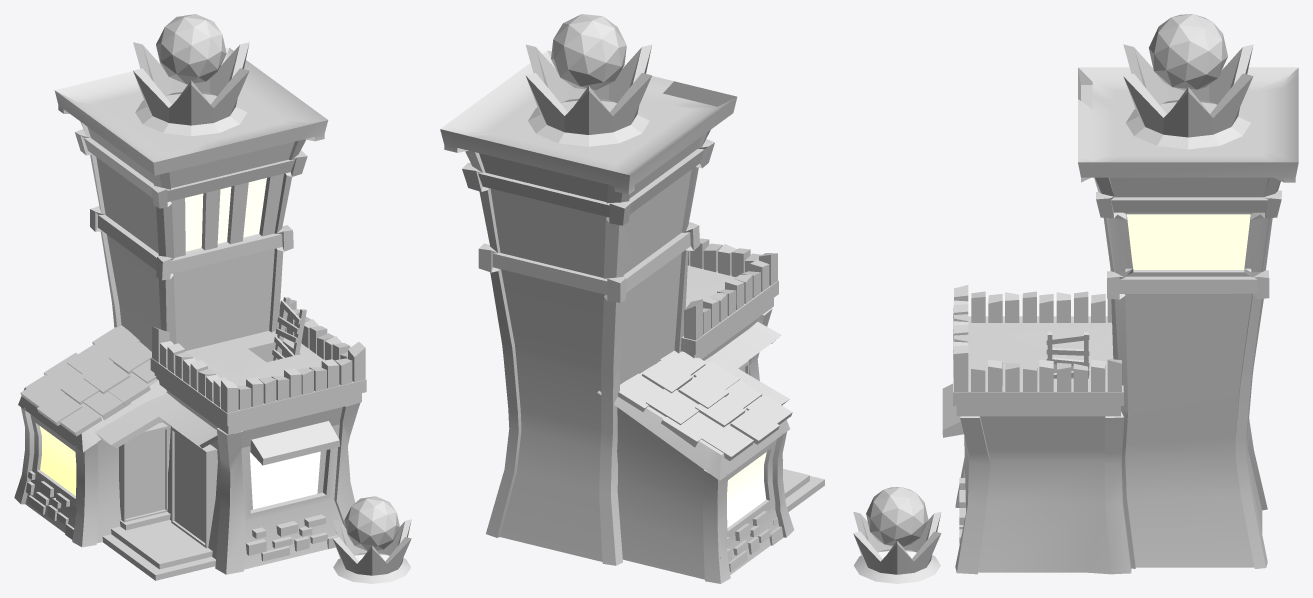
File: LookoutTemp.fbx
3 views of the same model, side by side, from view 1: azimuth 30°, elevation 25°; view 2: azimuth 150°, elevation 25°; view 3: azimuth 270°, elevation 25° (orthographic). The views are drawn at different scales.
Parts seen in each view (by area): view 1: Church?; view 2: Church?; view 3: Church?.
Part boxes in pixels (x1,y1,x2,y2): Church?: [14, 14, 411, 583]; Church?: [440, 14, 824, 583]; Church?: [853, 14, 1298, 583].
Size of the model in its own units: 910 by 1654 by 1282.
